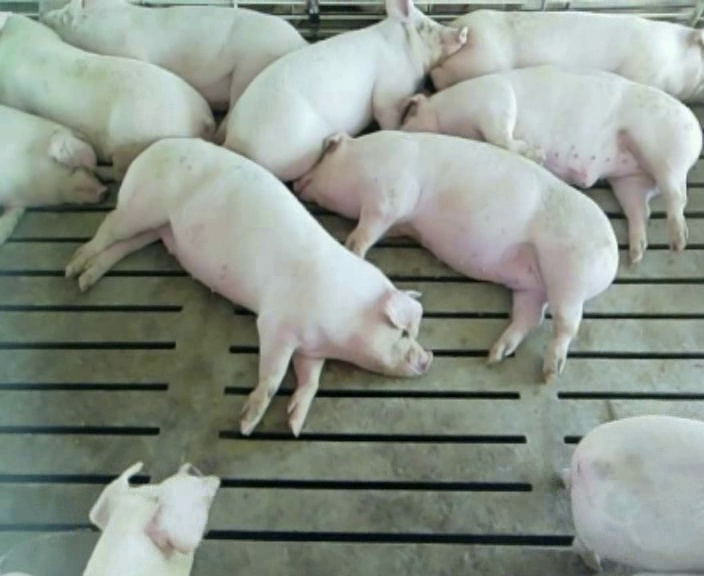pig: (66, 139, 431, 434), (294, 131, 616, 379), (404, 66, 701, 262), (225, 3, 466, 179), (42, 2, 305, 109), (431, 10, 703, 101), (560, 416, 703, 570), (83, 462, 219, 574)
